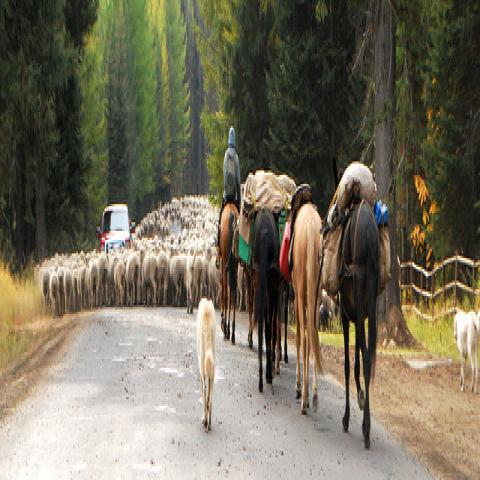truck: (95, 204, 131, 252)
